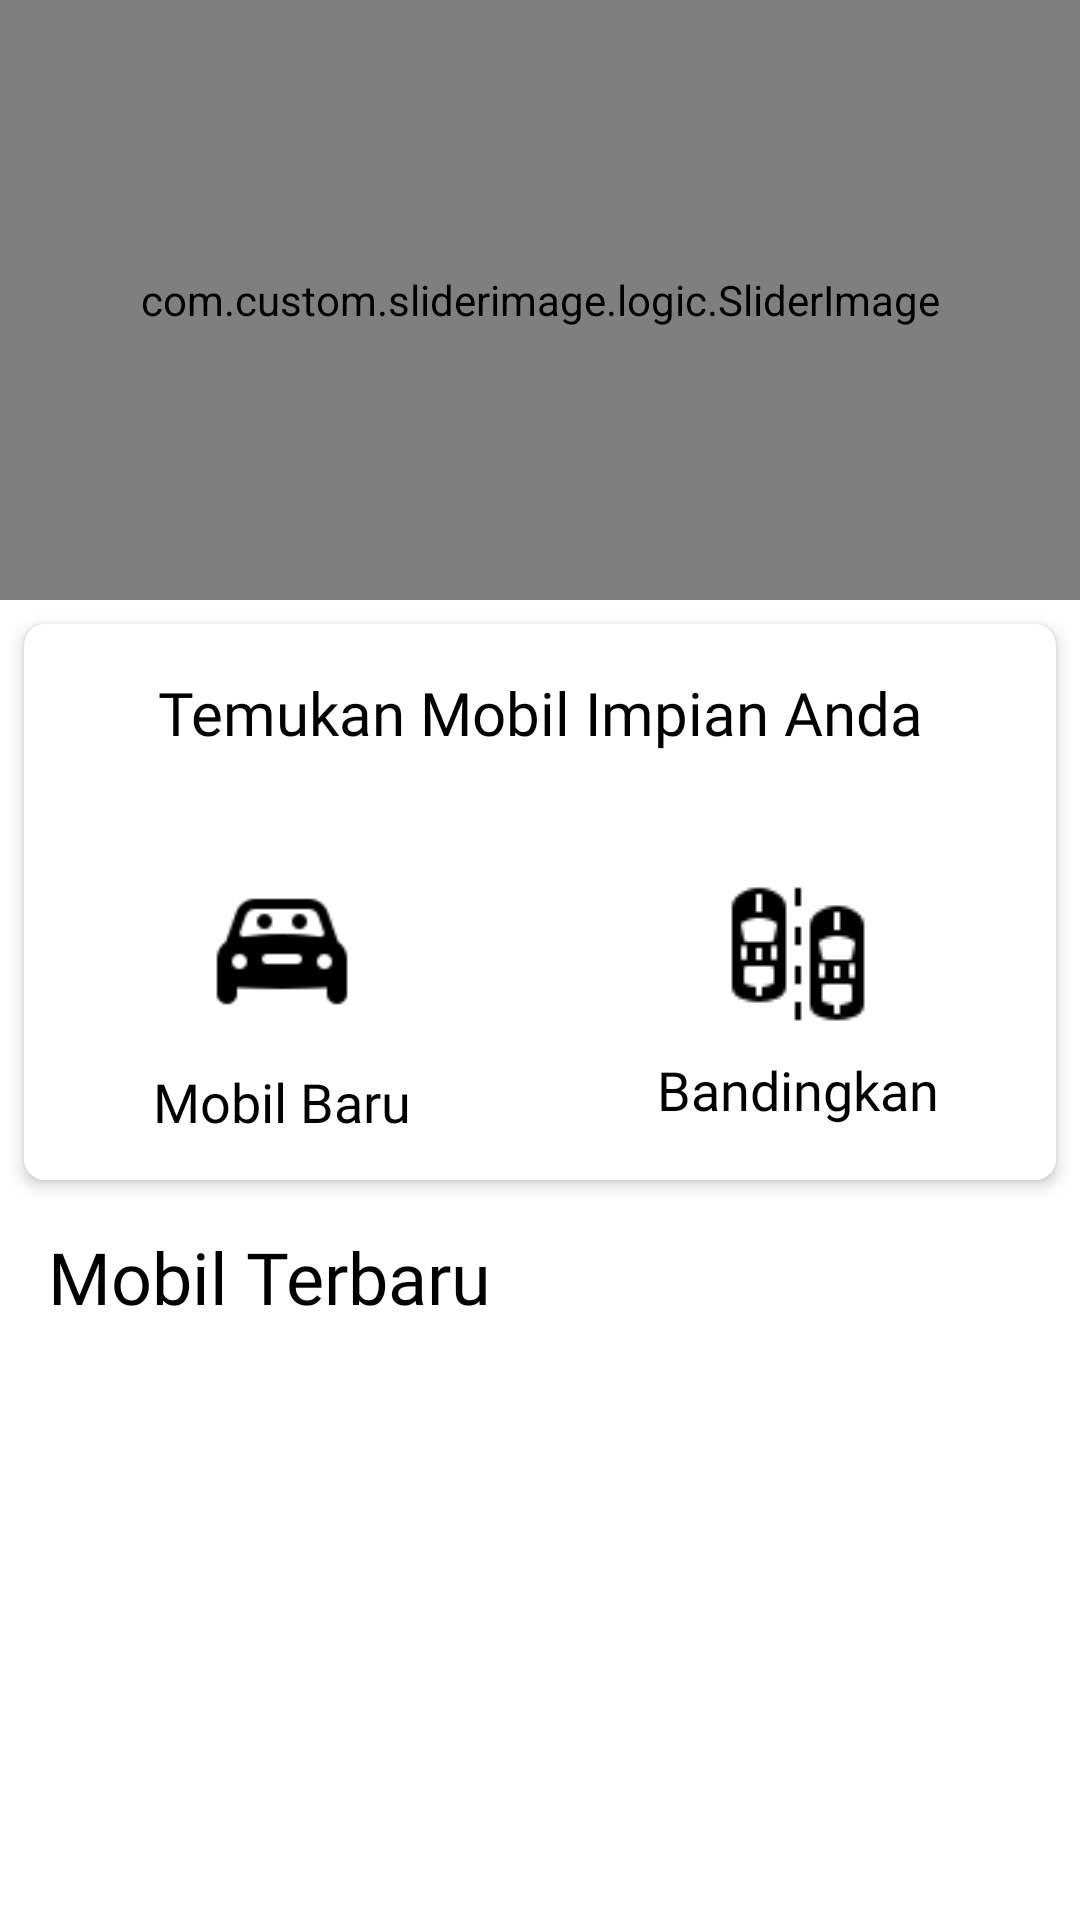

Icons on this 1080*1920 Android screen, each with the point to tap as (x=x, y=y):
car compare: (x=798, y=954)
car people: (x=282, y=951)
